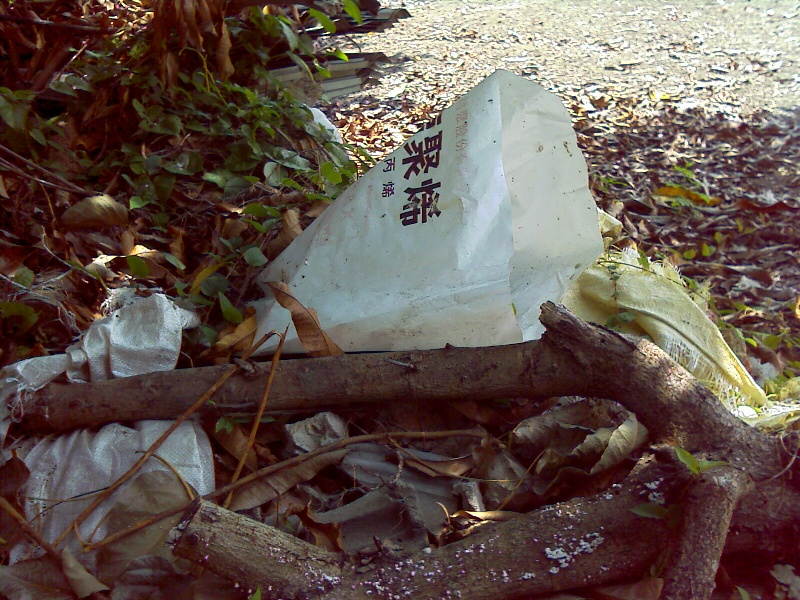plastic_bag: (244, 67, 608, 356), (22, 422, 210, 550)
